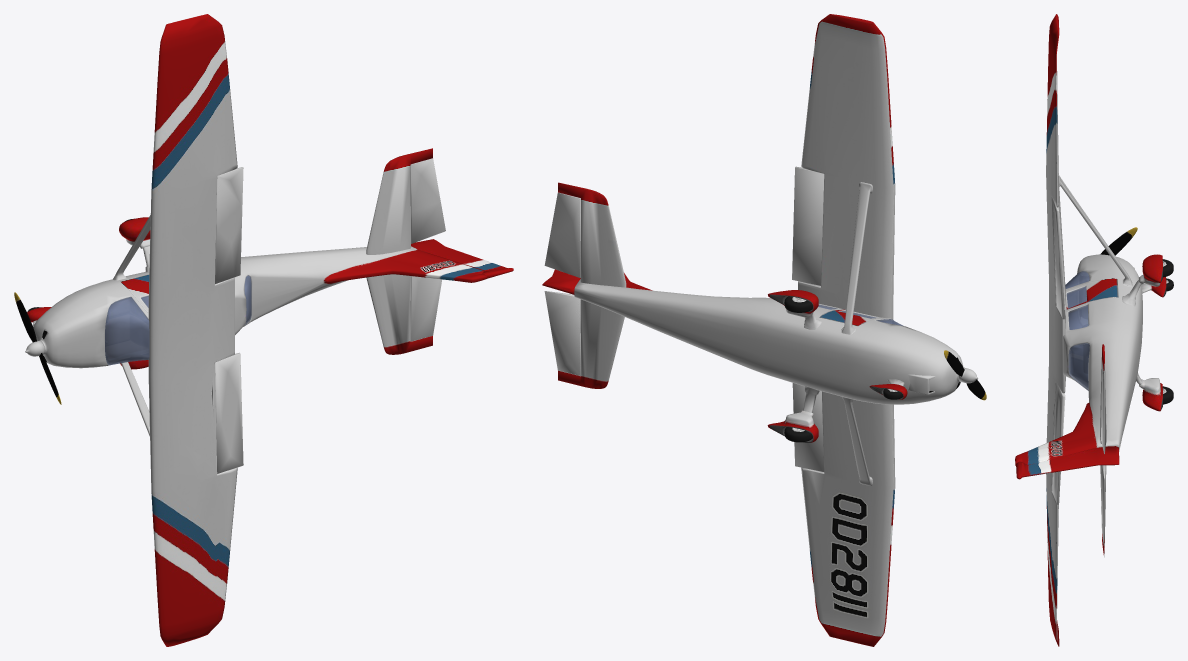
Rendered from 11804_Airplane_v2_l2.obj.
3 renders of one model, left to right at view 1: azimuth 30°, elevation 25°; view 2: azimuth 150°, elevation 25°; view 3: azimuth 270°, elevation 25°, orthographic.
Visible parts, largest first — view 1: 11804_Airplane_v2_l2; view 2: 11804_Airplane_v2_l2; view 3: 11804_Airplane_v2_l2.
Boxes of the visible parts, x1,y1,x2,y2 form: 11804_Airplane_v2_l2: [14, 14, 513, 646]; 11804_Airplane_v2_l2: [542, 14, 986, 646]; 11804_Airplane_v2_l2: [1015, 14, 1173, 646].
Size of the model in its own units: 827 by 1094 by 256.
2 materials, 2 textured.
